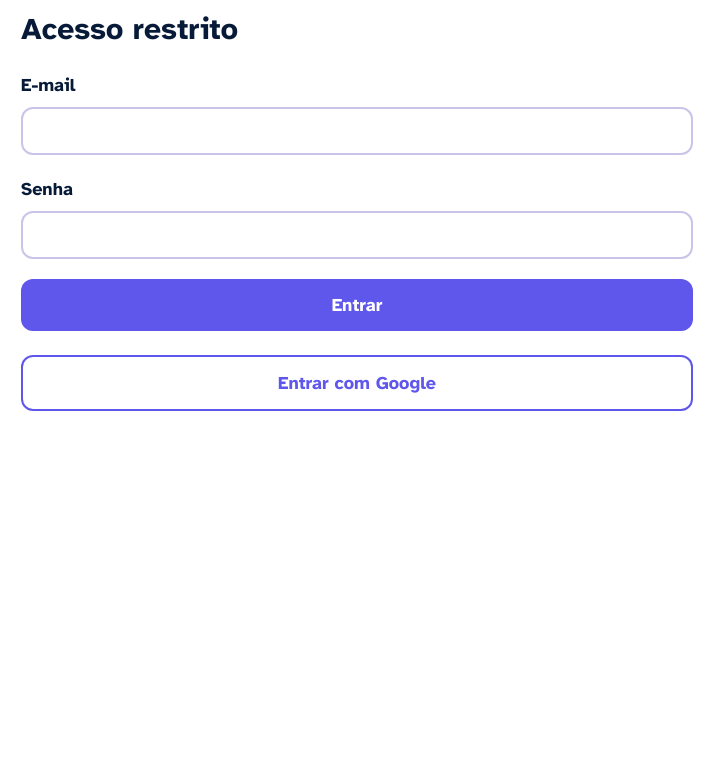
/demo: escolha da conta › falha ao trocar de conta: aviso fixo e nenhum redirecionamento
Type "admin@exemplo.test" into the field labelled "E-mail" at point(357, 131), box [21,107,693,155]
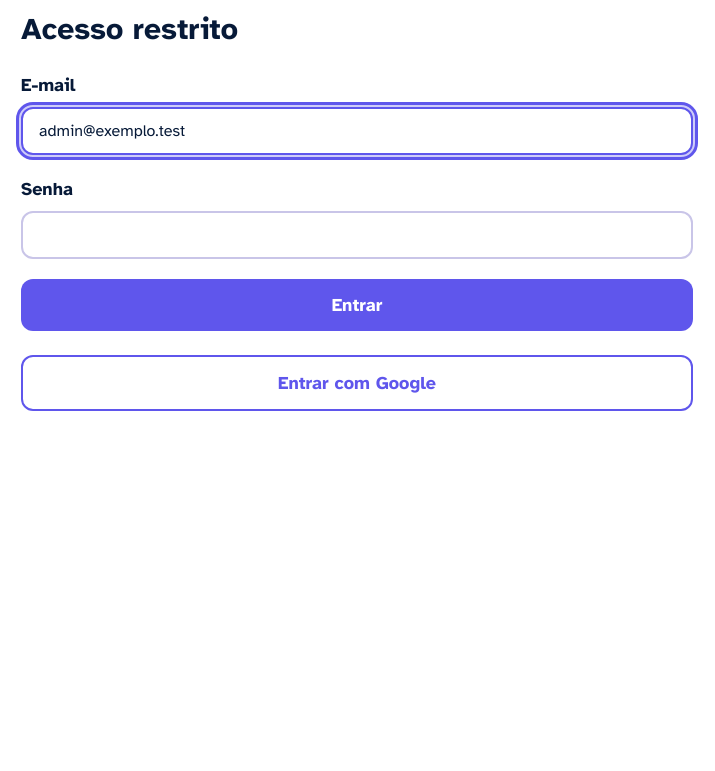
Type "senha-ficticia" into the password field labelled "Senha" at point(357, 235), box [21,211,693,259]
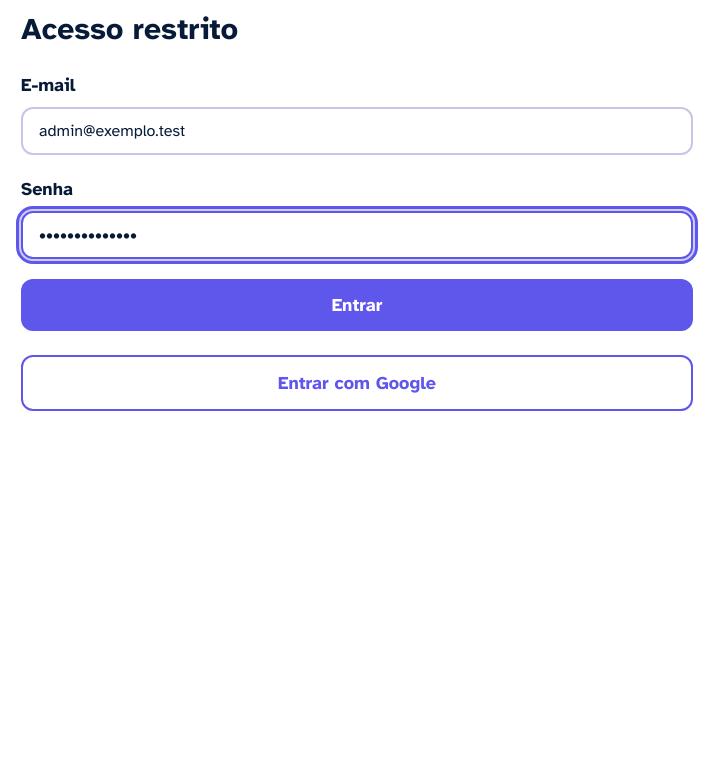
Click the button "Entrar" at point(357, 305), box [21,279,693,331]
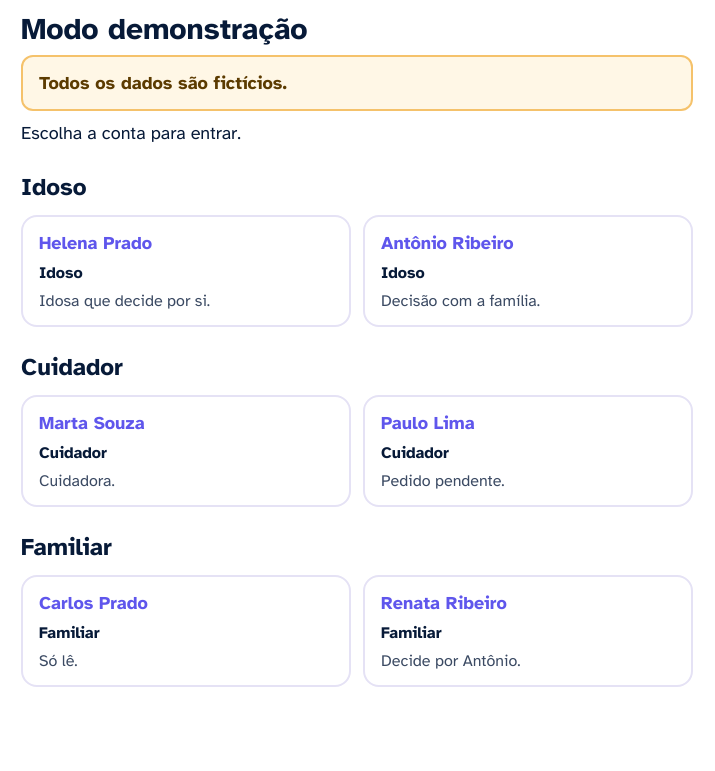
Click the button "Helena Prado Idoso Idosa que decide por si." at point(96, 243), box [21,215,351,327]
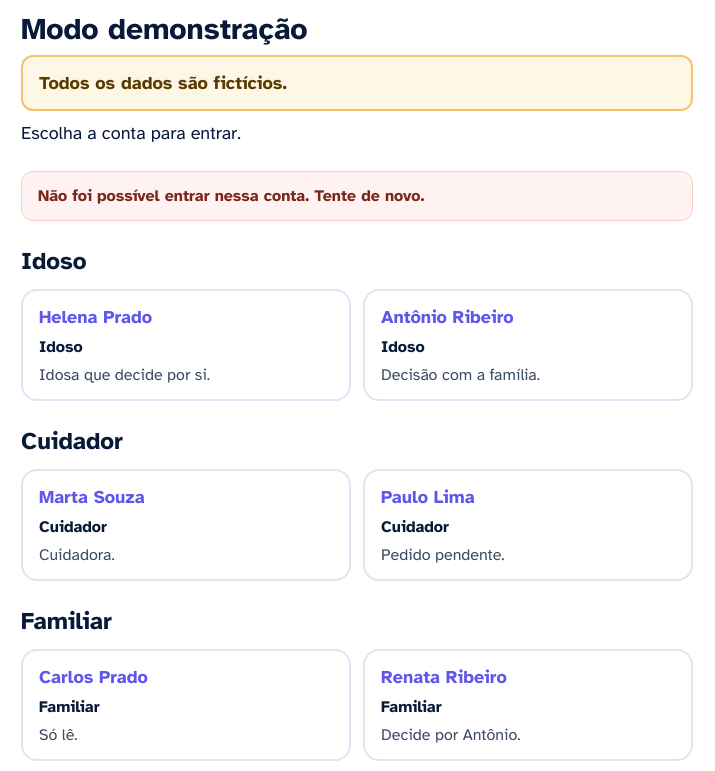
Expected: the message reads "Não foi possível entrar nessa conta. Tente de novo.", [38,186,424,206]
